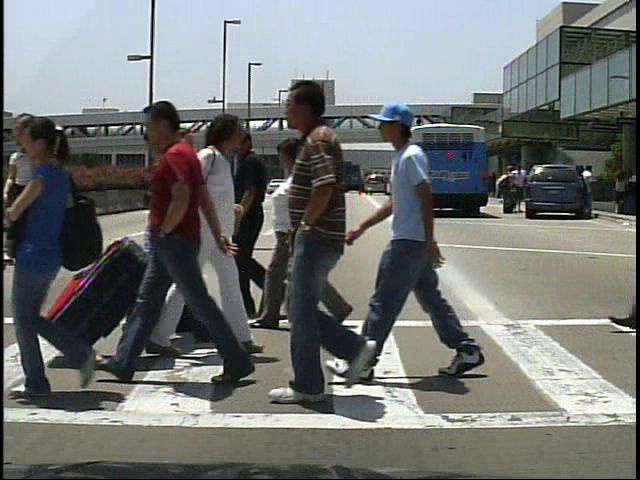person: (262, 84, 402, 425), (132, 91, 234, 388), (137, 110, 251, 364), (380, 103, 472, 382), (128, 123, 217, 344), (260, 135, 340, 332), (220, 123, 292, 323), (146, 119, 203, 362), (139, 190, 181, 323), (582, 165, 602, 218), (498, 166, 516, 219), (512, 165, 528, 215)
